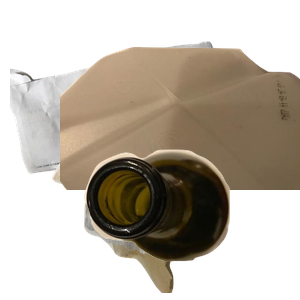glass: (82, 147, 300, 300)
paper: (10, 39, 236, 205)
plastic: (60, 44, 300, 224)
trash: (50, 120, 219, 300)
